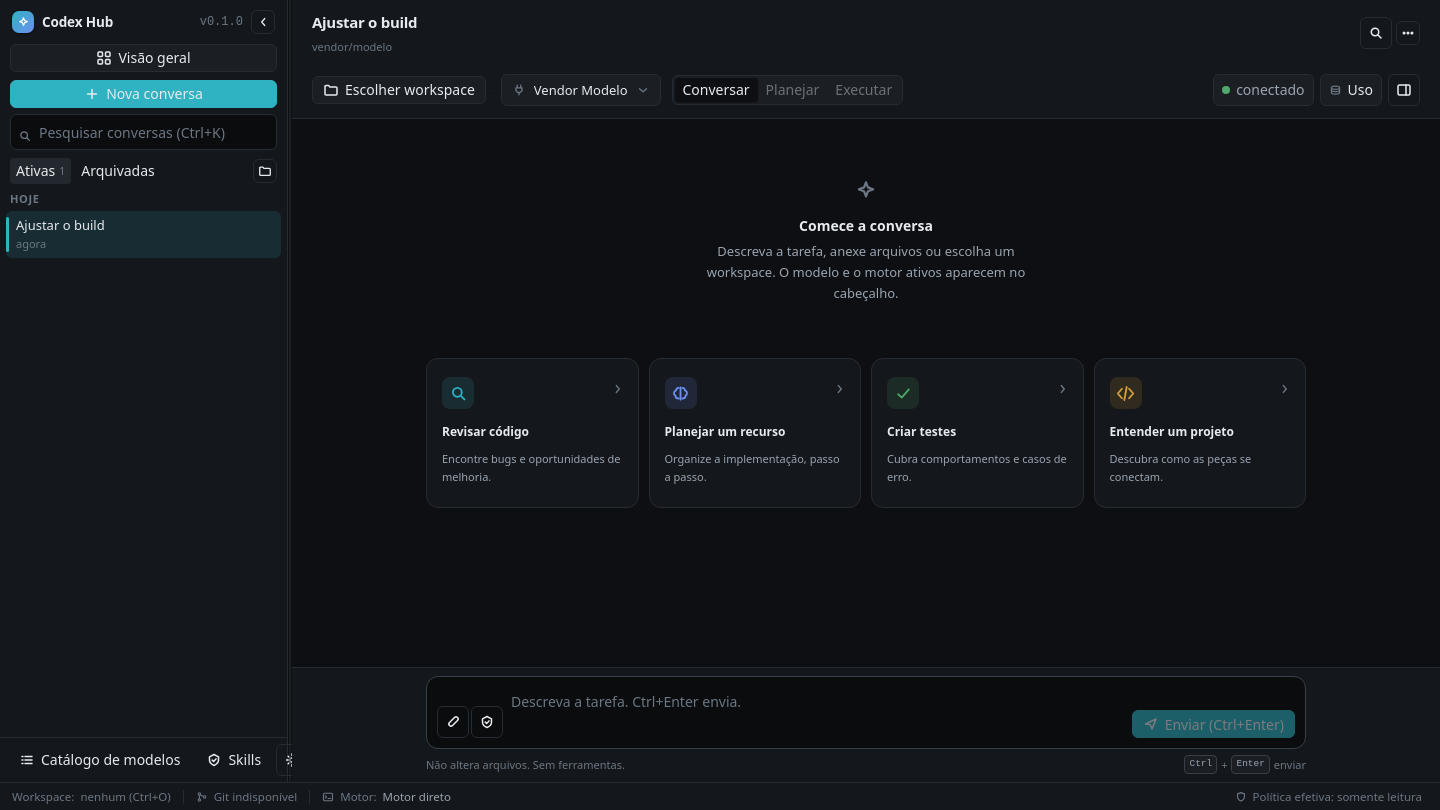
Scenario: Provedor de modelos do Codex › mostra o config.toml equivalente sem a chave e com o nome da variável
The image size is (1440, 810).
Expected: the navigation bar named "Navegação principal" is shown, [0, 0, 288, 782]
Type keys "{Control>},{/Control}"
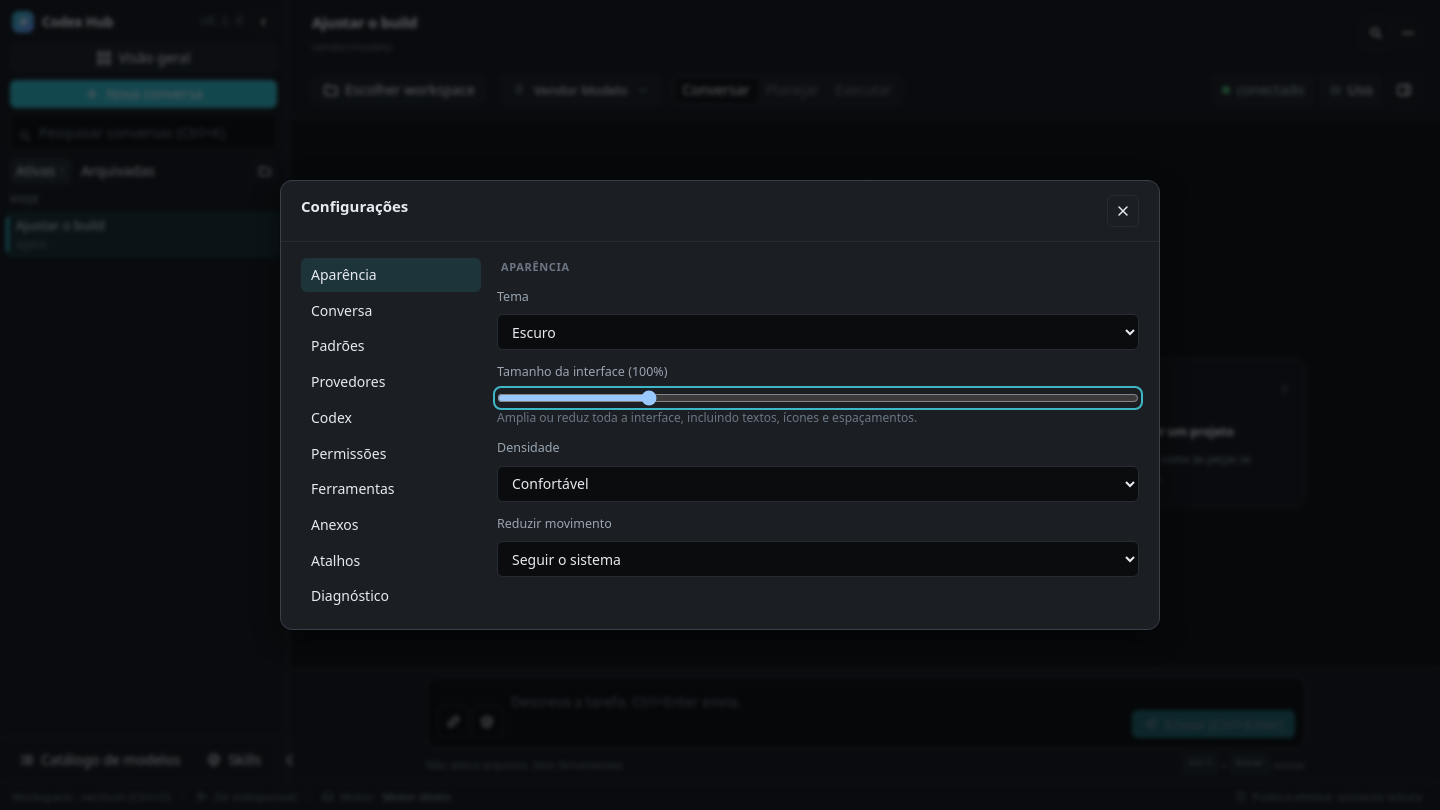
Click the button "Codex" at (391, 418), box [301, 401, 481, 434]
(page scrolled)
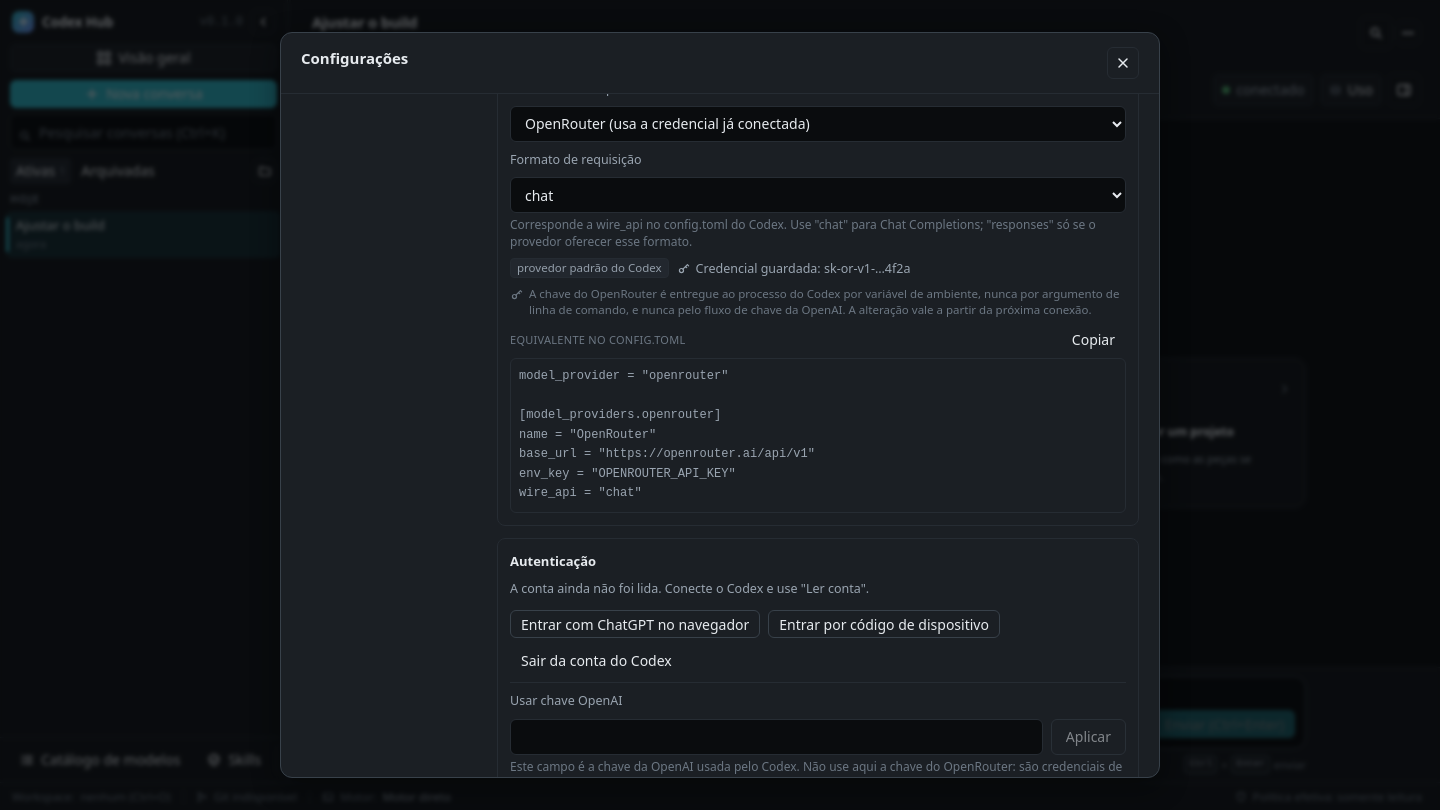
Expected: the text "[model_providers.openrouter]" does not show "sk-or"
Expected: the text "[model_providers.openrouter]" shows "env_key = \"OPENROUTER_API_KEY\"", [519, 369, 815, 500]
Expected: the text "[model_providers.openrouter]" shows "base_url = \"https://openrouter.ai/api/v1\"", [519, 369, 815, 500]
